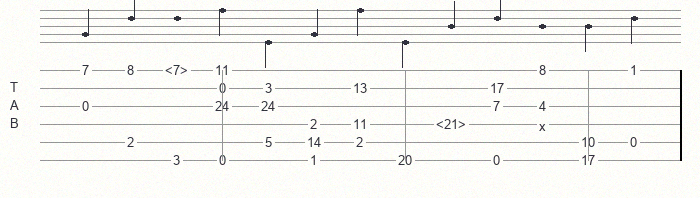0: (82, 99, 93, 113), (219, 81, 230, 95), (219, 153, 230, 167), (493, 153, 504, 167), (630, 135, 641, 149)
1: (310, 153, 321, 167), (630, 63, 641, 77)
10: (581, 135, 599, 149)
11: (215, 63, 233, 77), (353, 117, 371, 131)
13: (353, 81, 371, 95)
14: (307, 135, 325, 149)
17: (490, 81, 508, 95), (581, 153, 599, 167)
2: (127, 135, 138, 149), (310, 117, 321, 131), (356, 135, 367, 149)
20: (398, 153, 416, 167)
24: (215, 99, 233, 113), (261, 99, 279, 113)
3: (173, 153, 184, 167), (265, 81, 276, 95)
4: (539, 99, 550, 113)
5: (265, 135, 276, 149)
7: (82, 63, 93, 77), (493, 99, 504, 113)
8: (127, 63, 138, 77), (539, 63, 550, 77)
harmonic: (436, 117, 470, 131), (165, 63, 192, 77)
x: (539, 119, 550, 130)
